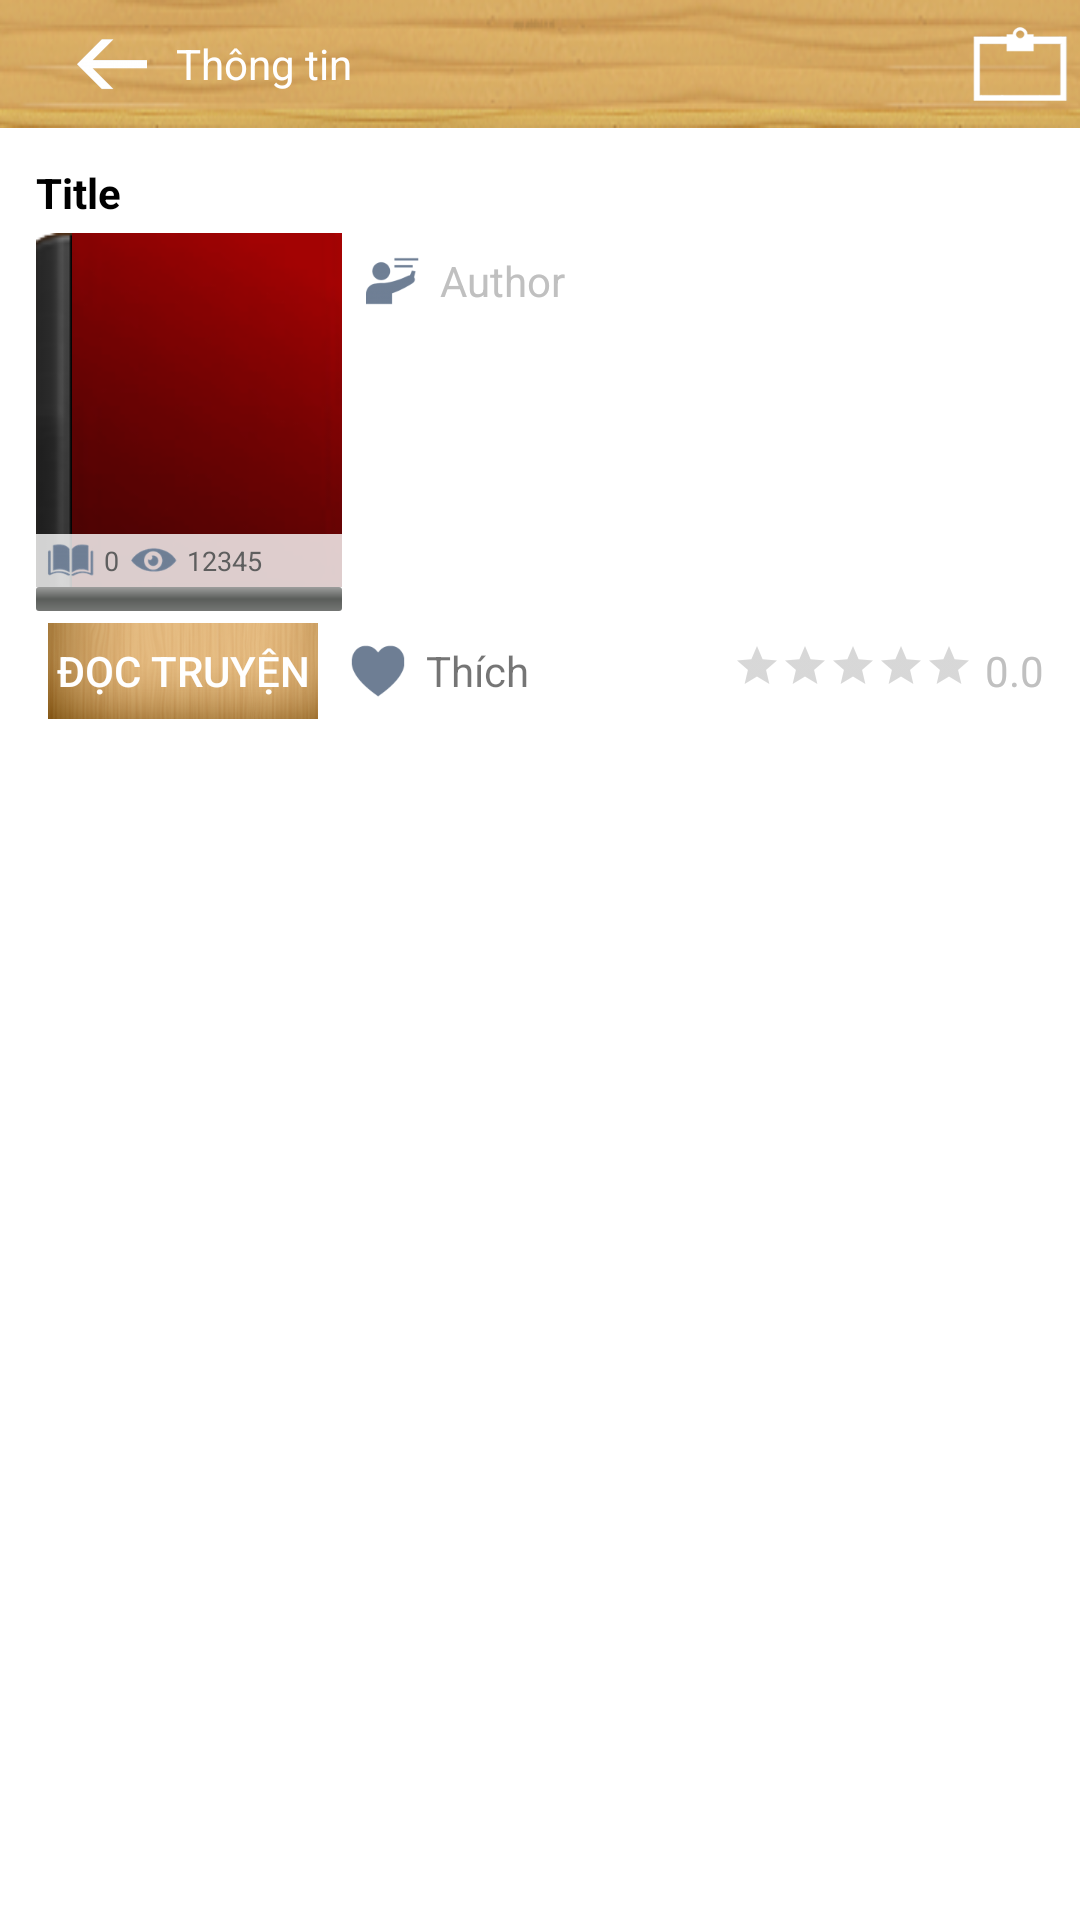

Point at icon controls on the screen. Image size 1080*1920, points as (x=x, y=y).
heart: (x=378, y=671)
view: (x=153, y=560)
